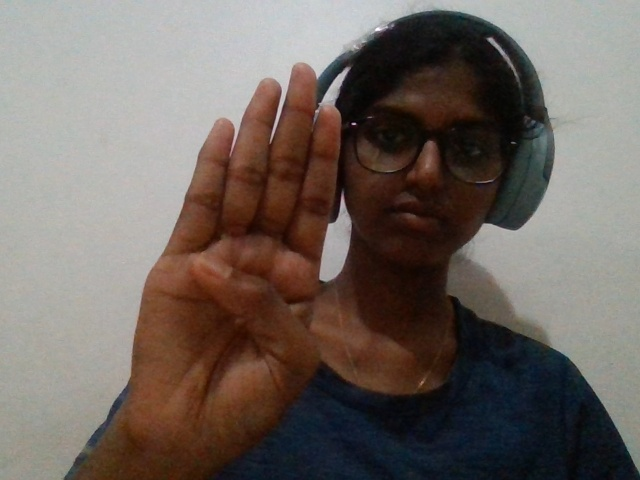B: (90, 56, 352, 480)
